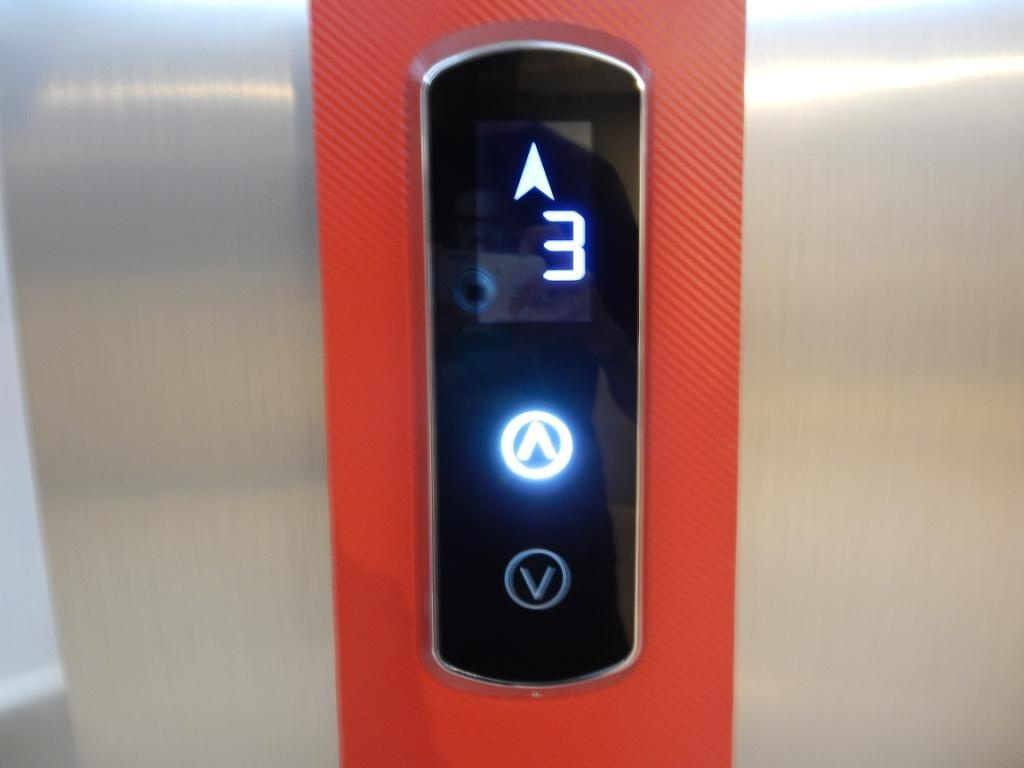down: (503, 546, 570, 610)
led: (466, 117, 598, 330)
up: (500, 408, 574, 480)
